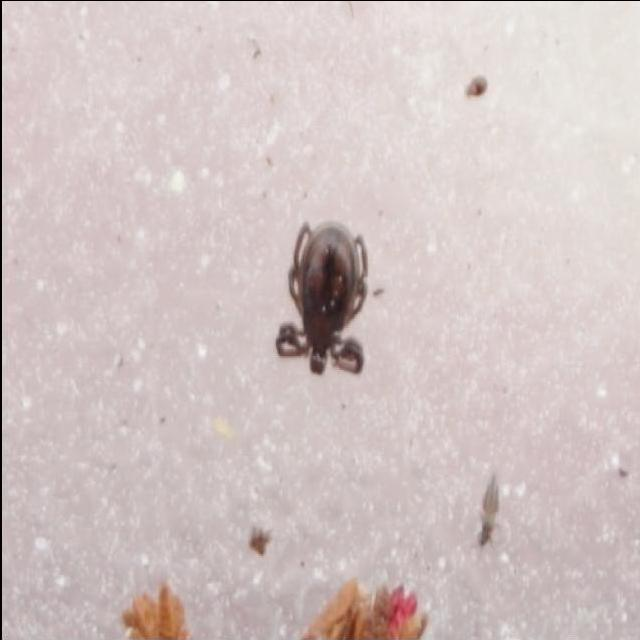Ixodes Ricinus-M: (274, 223, 371, 377)
